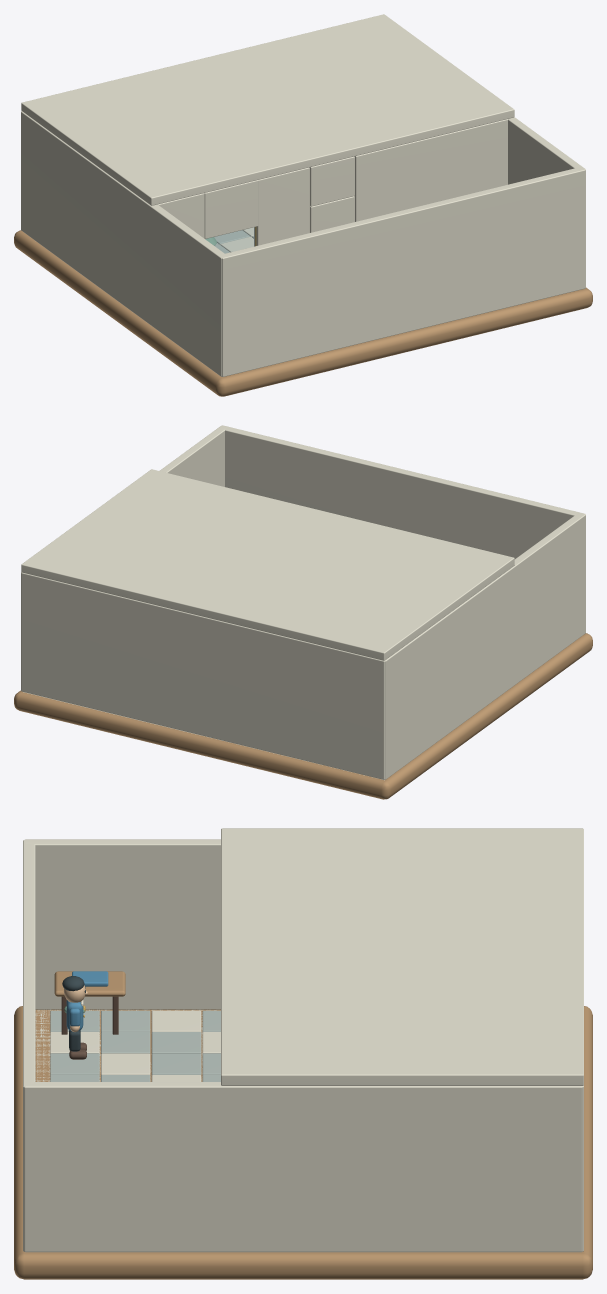
The model's file is room-1.glb.
The picture shows the model from 3 angles, top to bottom: view 1: azimuth 30°, elevation 25°; view 2: azimuth 150°, elevation 25°; view 3: azimuth 270°, elevation 25°; orthographic projection. The views are drawn at different scales.
Visible parts, largest first — view 1: 封闭顶板, 走廊栏墙, static_room_Ivory plaster, static_room_Honey oak, 右侧墙, 灯光通道处的墙, 封闭玻璃窗; view 2: static_room_Ivory plaster, 封闭顶板, 走廊栏墙, static_room_Honey oak, 右侧墙; view 3: 右侧墙, 封闭顶板, static_room_Ivory plaster, static_room_Honey oak, static_room_Quiet tile, 走廊栏墙, body_a_sculpt.
Boxes of the visible parts, x1,y1,x2,y2 form: 封闭顶板: [21, 14, 514, 205]; 走廊栏墙: [221, 167, 585, 376]; static_room_Ivory plaster: [21, 111, 507, 376]; static_room_Honey oak: [14, 230, 592, 396]; 右侧墙: [508, 117, 585, 287]; 灯光通道处的墙: [310, 196, 354, 232]; 封闭玻璃窗: [205, 227, 256, 253]; static_room_Ivory plaster: [21, 513, 585, 780]; 封闭顶板: [21, 469, 514, 660]; 走廊栏墙: [221, 425, 585, 558]; static_room_Honey oak: [14, 633, 592, 799]; 右侧墙: [21, 425, 227, 690]; 右侧墙: [24, 1082, 582, 1252]; 封闭顶板: [221, 828, 583, 1085]; static_room_Ivory plaster: [25, 839, 583, 1251]; static_room_Honey oak: [14, 971, 592, 1279]; static_room_Quiet tile: [50, 1010, 220, 1081]; 走廊栏墙: [23, 840, 35, 1251]; body_a_sculpt: [62, 976, 87, 1030].
Bounding box in the file's own units: 11.9 × 4.42 × 11.4.
